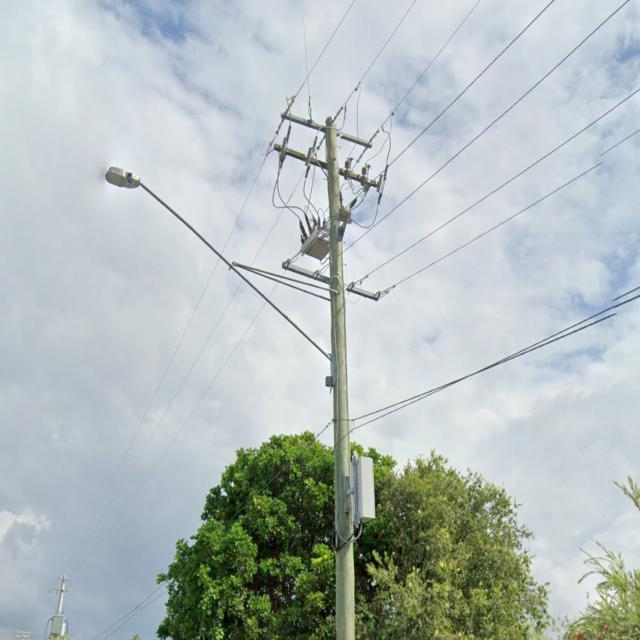HV-switch: (298, 213, 331, 261)
HV-transmission: (267, 96, 390, 206)
crossarm: (274, 143, 379, 189), (280, 260, 383, 302), (280, 112, 373, 149)
streetlight: (105, 165, 333, 362)
timber-pole: (325, 117, 356, 640)
